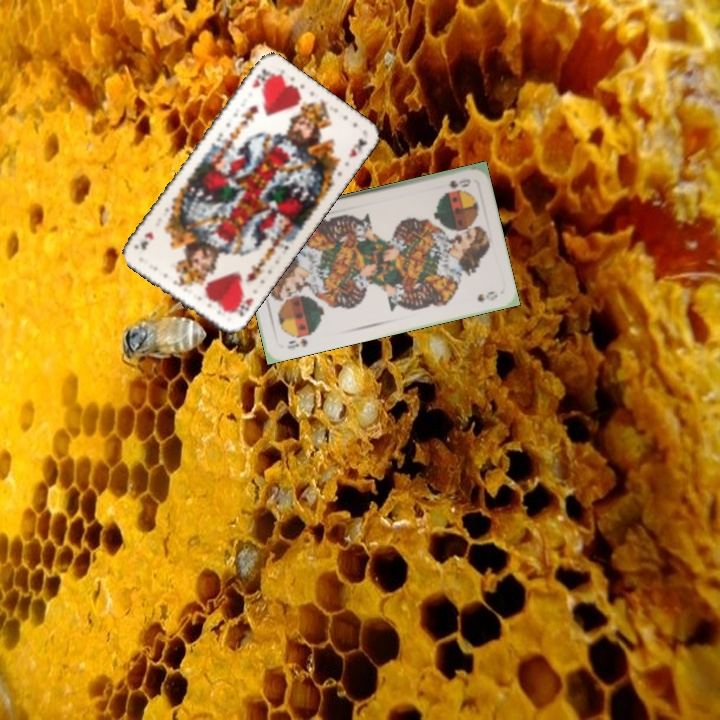HK: (225, 289, 256, 320), (247, 64, 273, 91)
SO: (284, 334, 310, 352), (445, 175, 473, 191)
